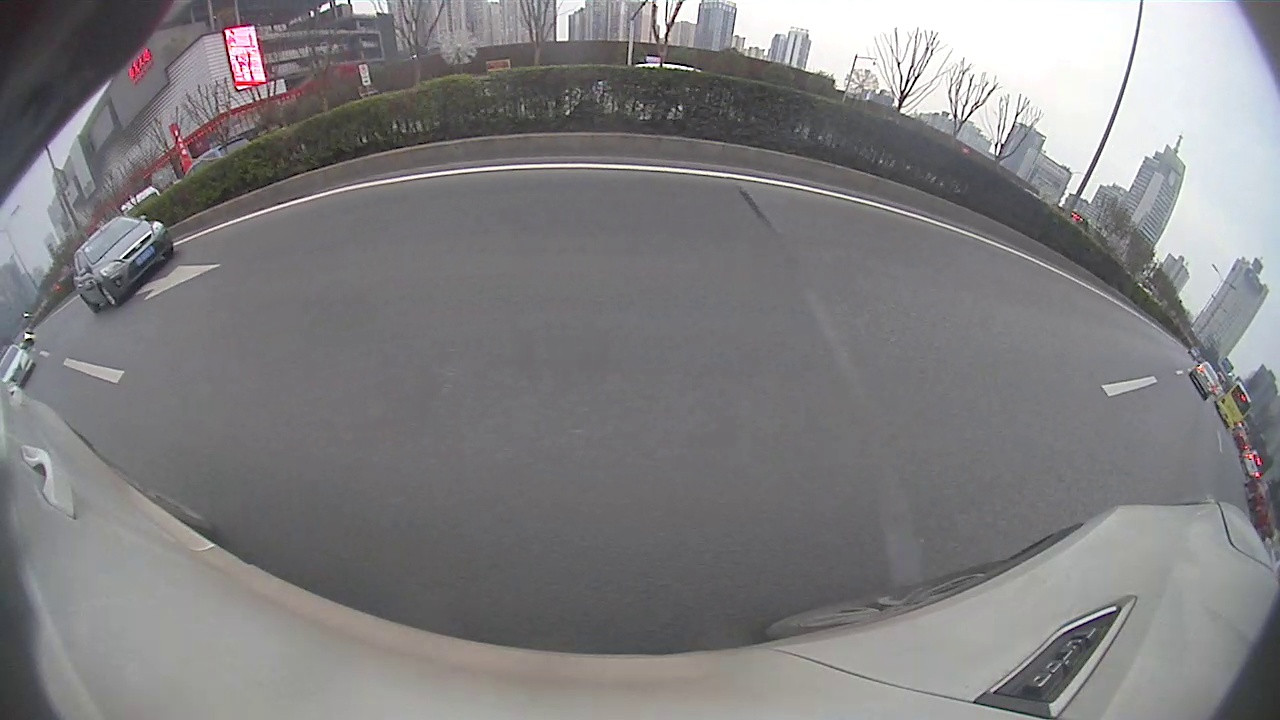bus: (1215, 379, 1253, 430)
car: (72, 213, 175, 316), (1189, 360, 1220, 402)
front: (99, 284, 119, 310)
